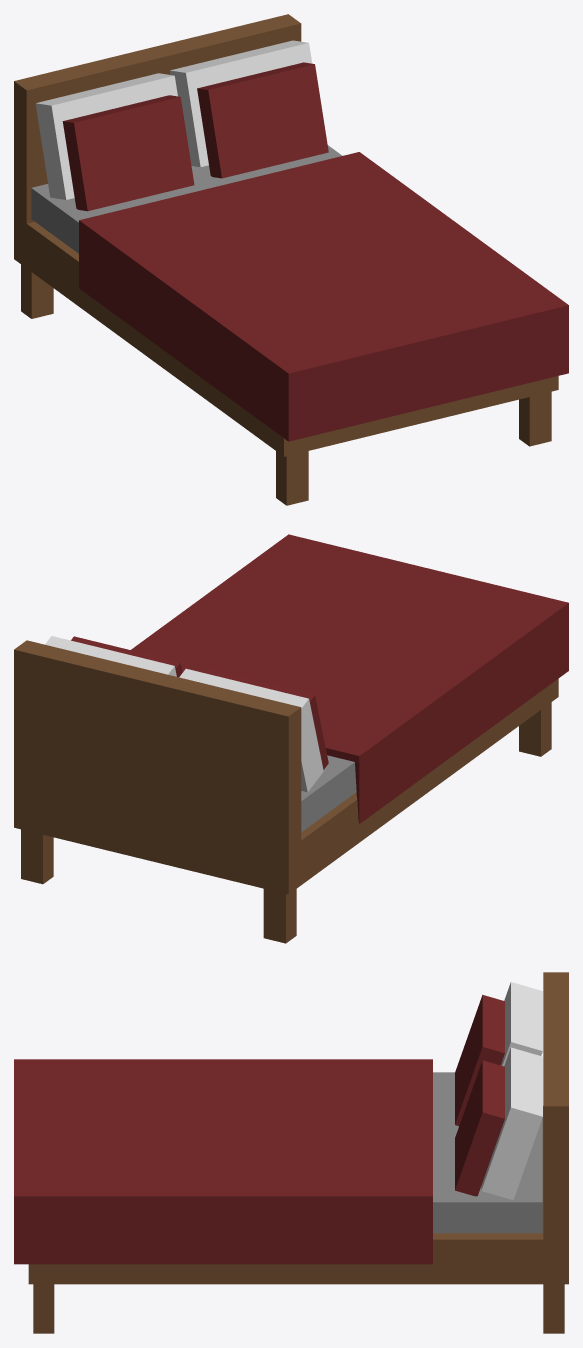
Rendered from Bed01.fbx.
The picture shows the model from 3 angles, top to bottom: view 1: azimuth 30°, elevation 25°; view 2: azimuth 150°, elevation 25°; view 3: azimuth 270°, elevation 25°; orthographic projection.
Visible parts, largest first — view 1: Cube; view 2: Cube; view 3: Cube.
Part boxes in pixels (<box>): Cube: <box>14,14,568,505</box>; Cube: <box>14,534,568,943</box>; Cube: <box>14,972,568,1333</box>.
Size of the model in its own units: 171 by 134 by 294.
